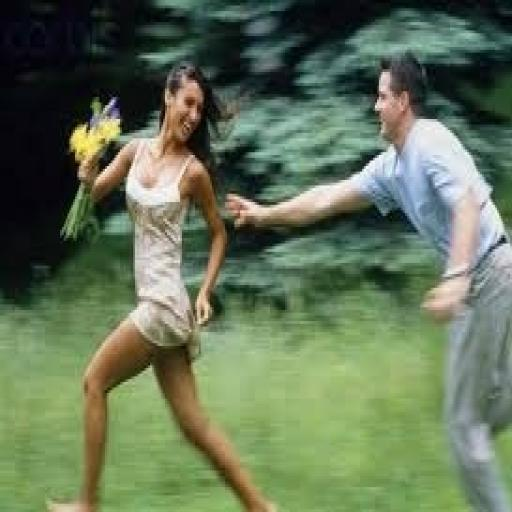dancing: (223, 47, 510, 509), (45, 58, 279, 509)
